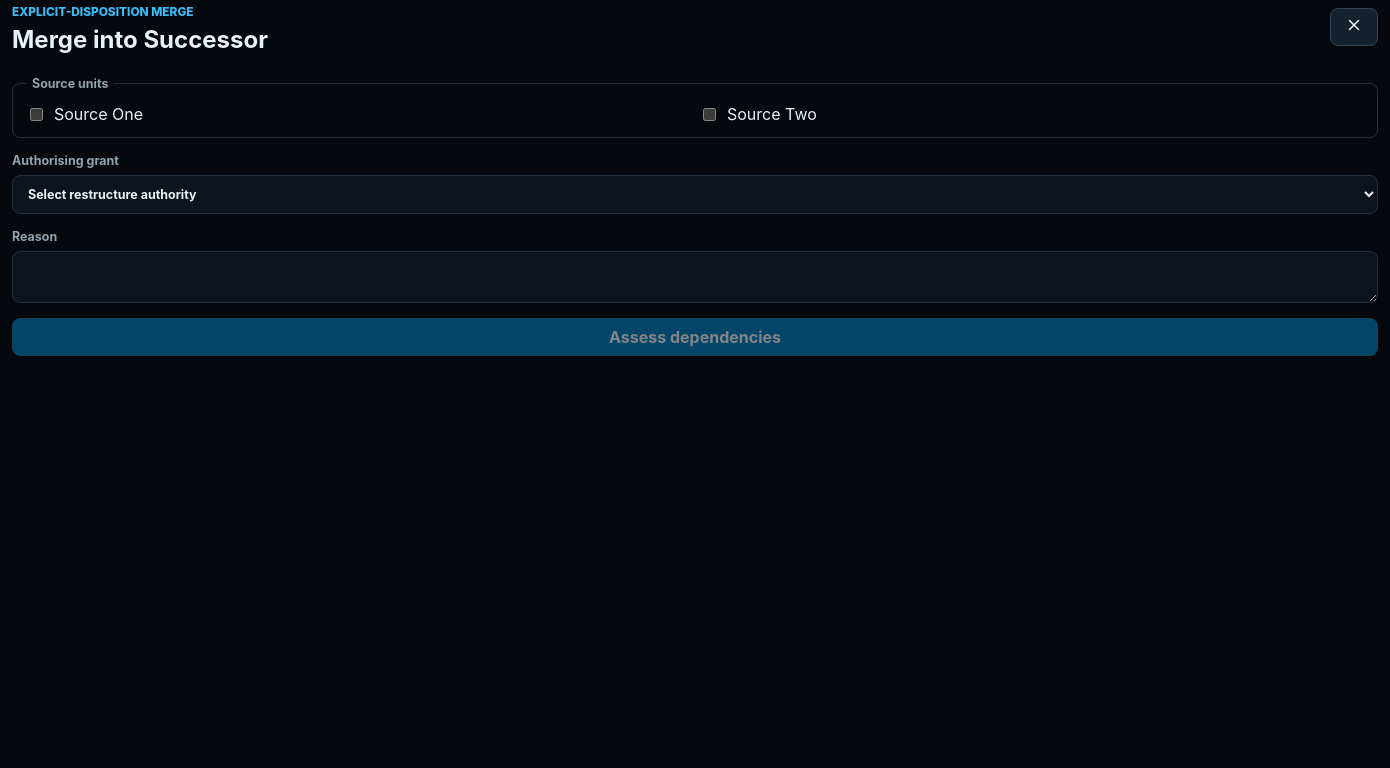
Test: assesses every dependency and executes the exact reviewed merge plan
Click the checkbox labelled "Source One" at coordinates (36, 114), box [30,108,43,120]
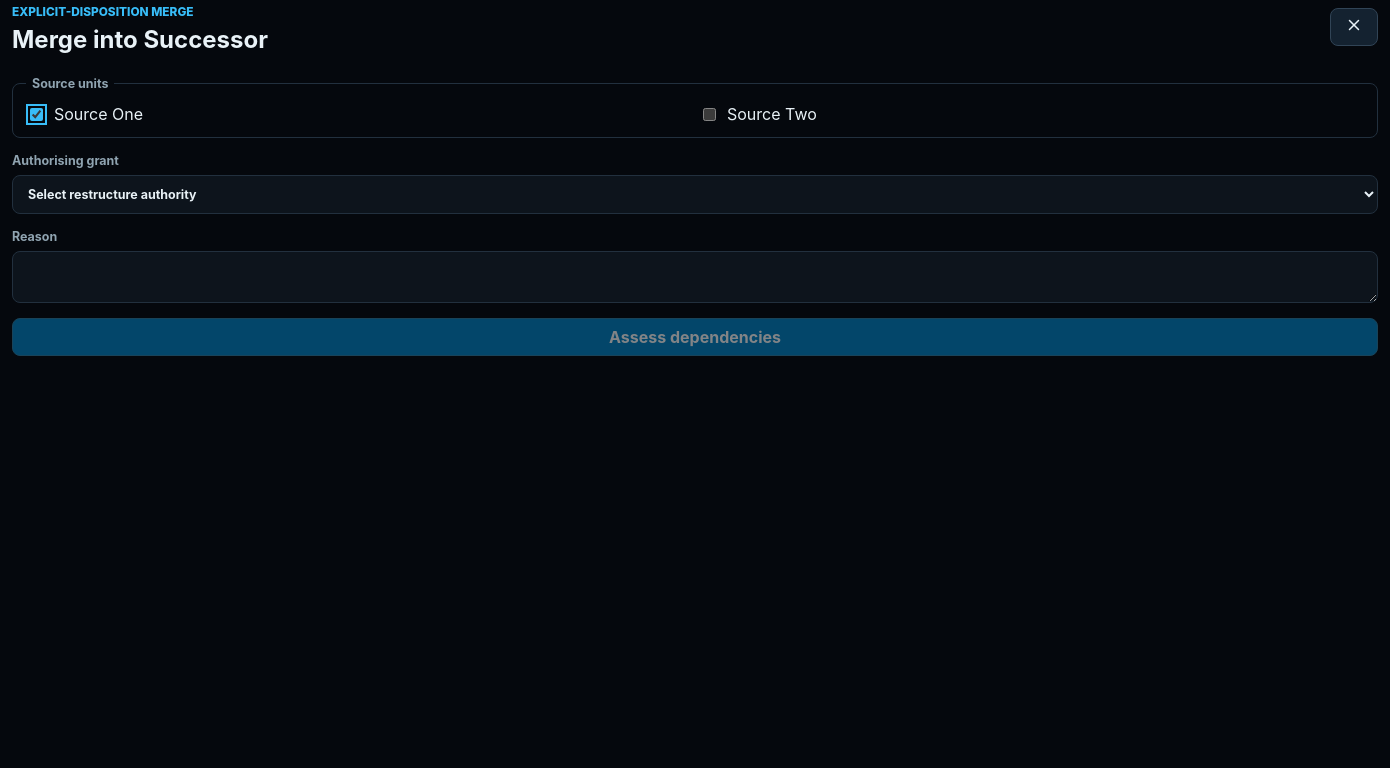
Click the checkbox labelled "Source Two" at coordinates (710, 114), box [703,108,716,120]
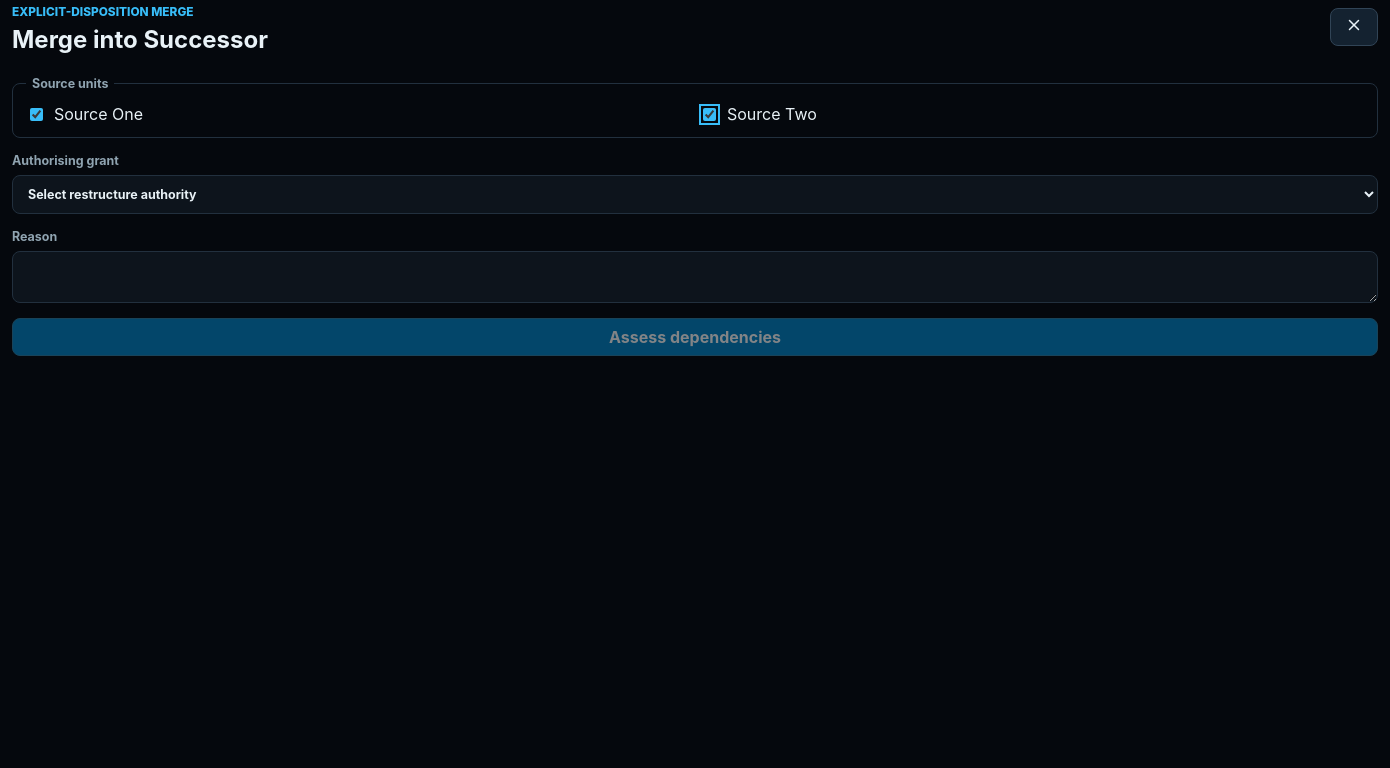
Select "Descendant scope" in the dropdown labelled "Authorising grant" at coordinates (695, 194), box [12,175,1378,214]
Type "Consolidate synthetic delivery teams." into the text box labelled "Reason" at coordinates (695, 277), box [12,251,1378,303]
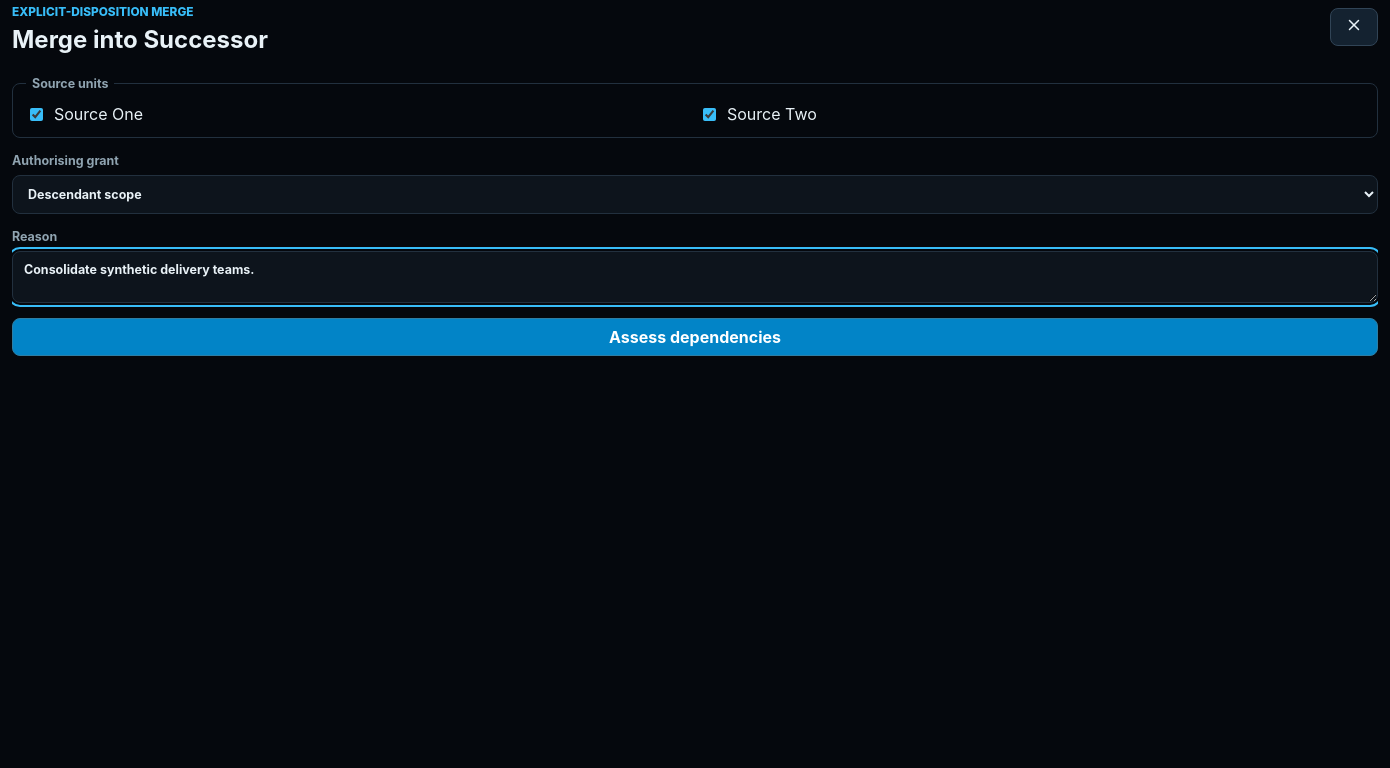
Click the button "Assess dependencies" at coordinates (695, 337), box [12,318,1378,356]
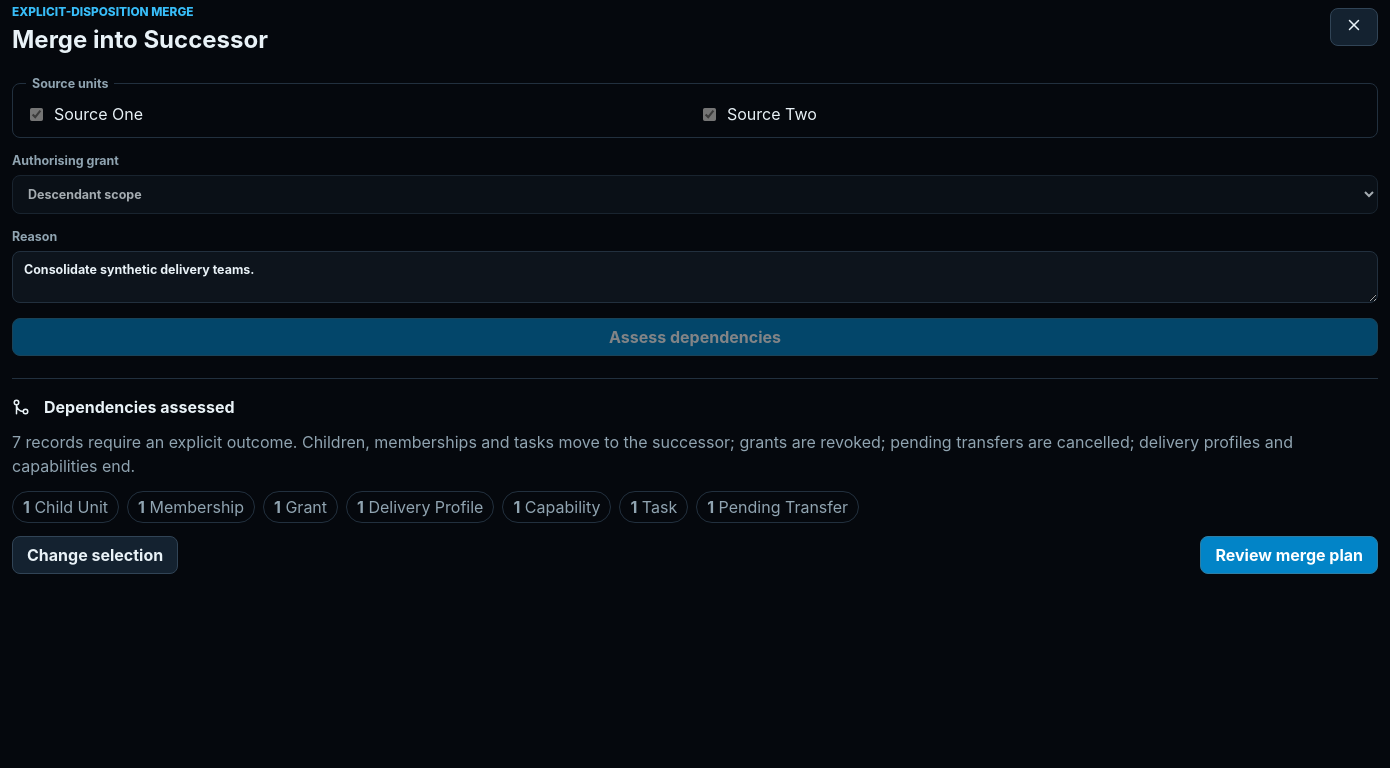
Expected: the text "7 records require an explicit outcome" is shown, [12,430,1378,478]
Click the button "Review merge plan" at coordinates (1289, 555), box [1200,536,1378,574]
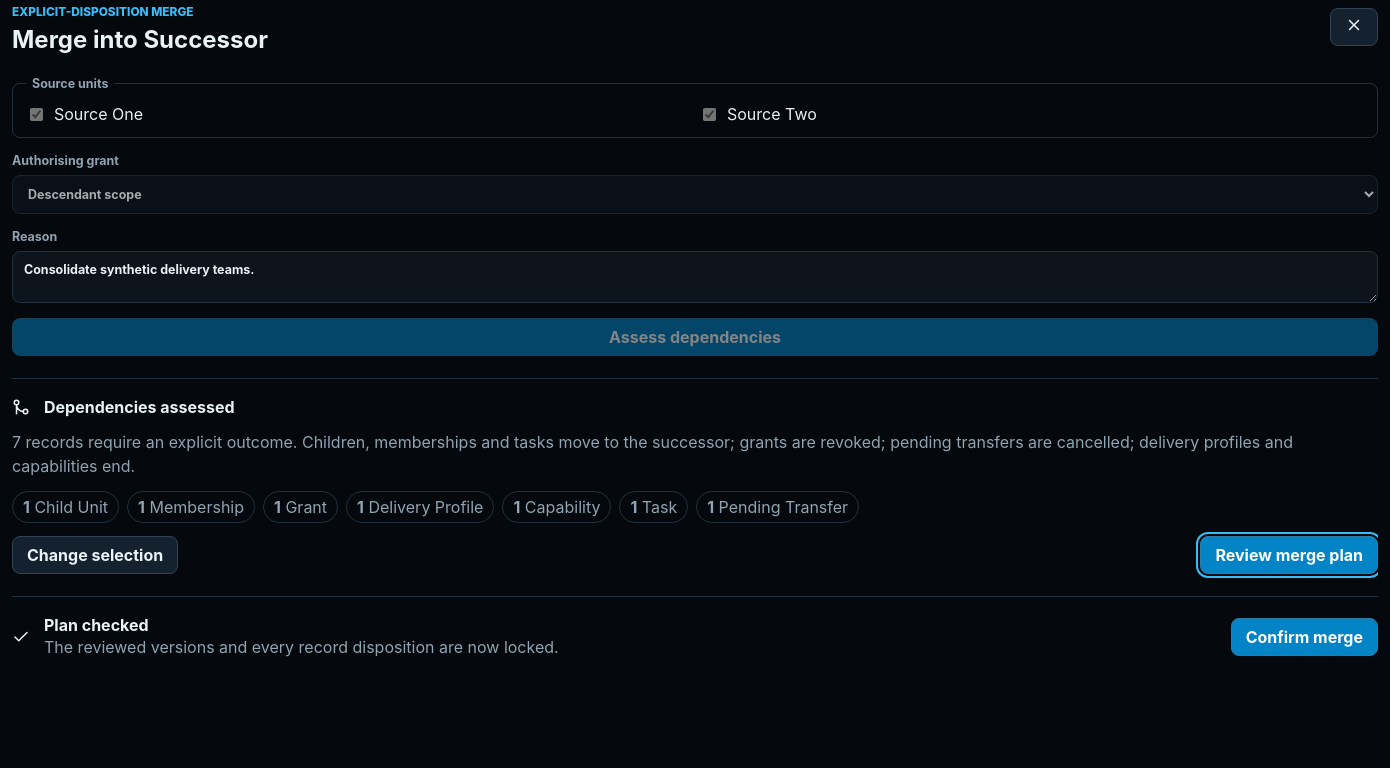
Expected: the text "Plan checked" is shown, [44,615,149,635]
Click the button "Confirm merge" at coordinates (1304, 637), box [1231,618,1378,656]
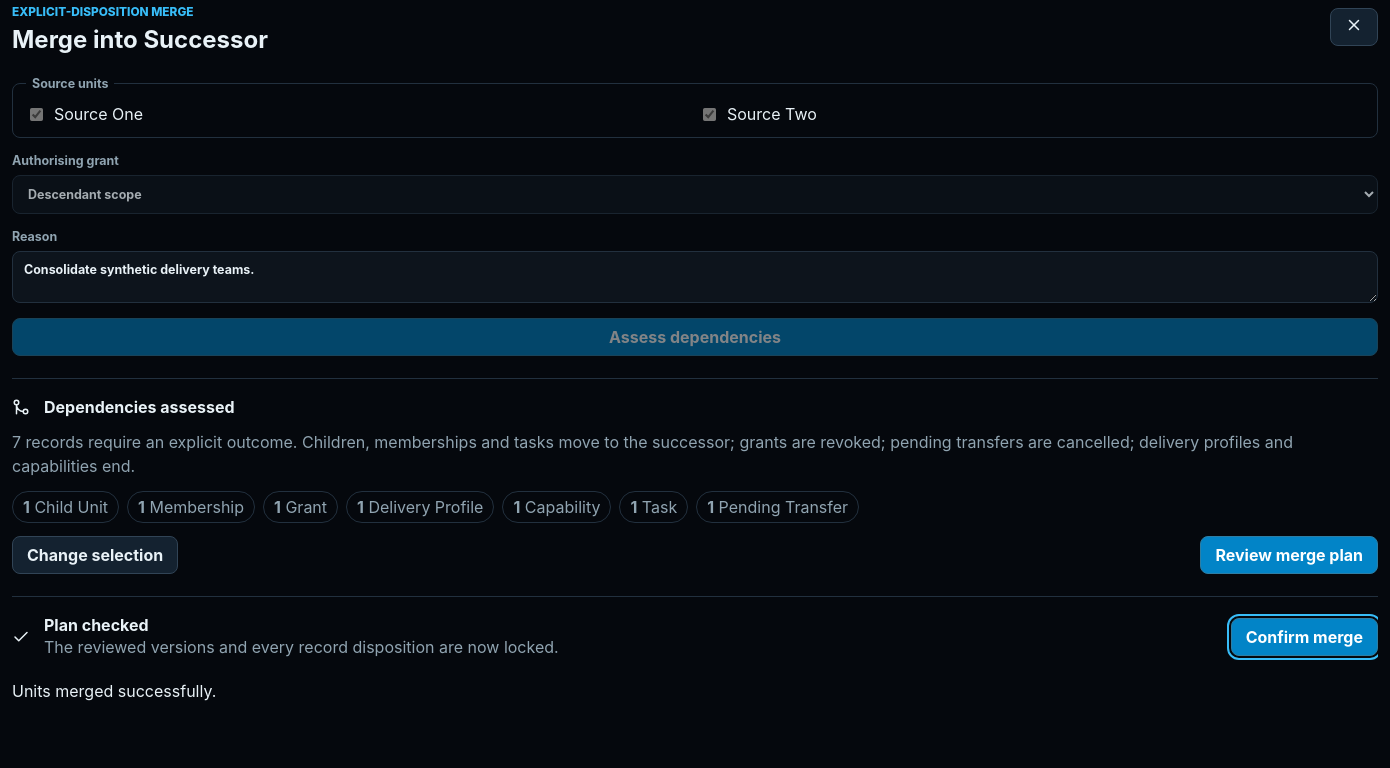
Expected: the text "Units merged successfully." is shown, [12,681,216,701]
